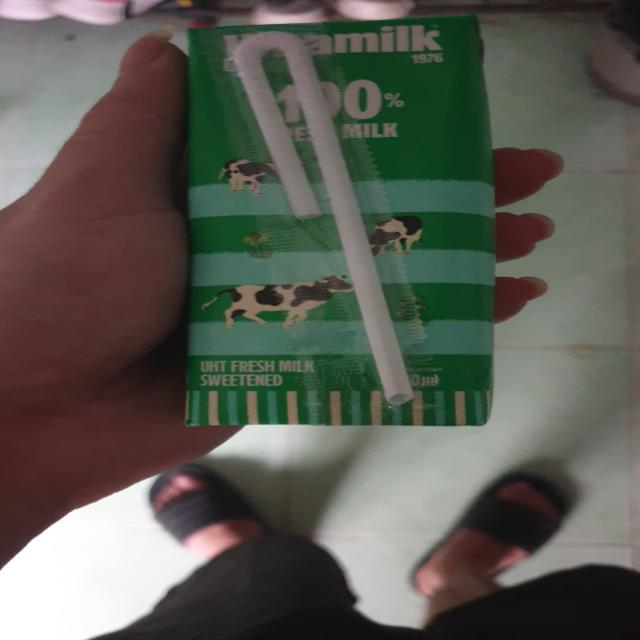Vina: (185, 15, 504, 430)
